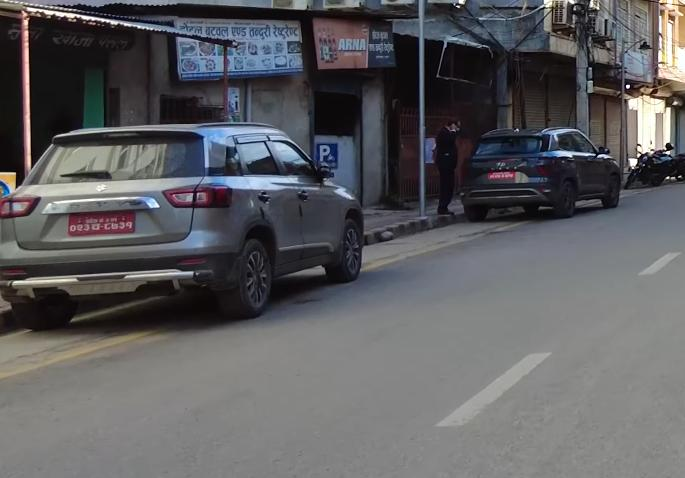bike: (625, 148, 676, 192)
car: (5, 109, 380, 318), (456, 120, 644, 218)
